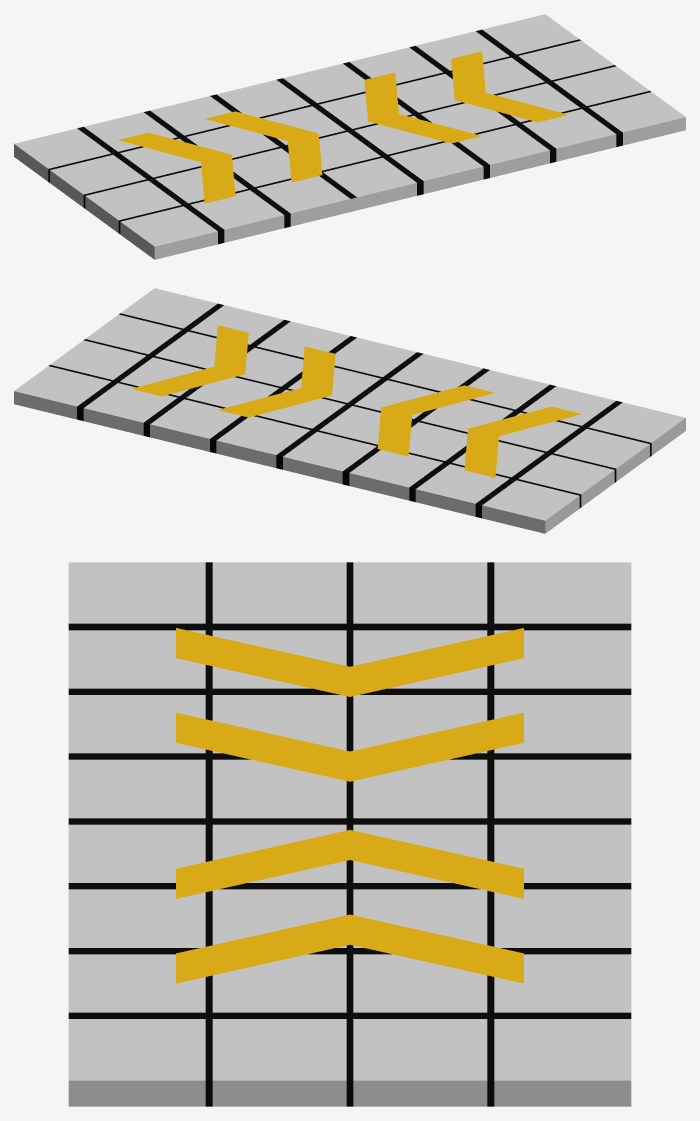
Rendered from speedTile.fbx.
3 views of the same model, one above another, from view 1: azimuth 30°, elevation 25°; view 2: azimuth 150°, elevation 25°; view 3: azimuth 270°, elevation 25° (orthographic). The views are drawn at different scales.
Parts seen in each view (by area): view 1: speedTile; view 2: speedTile; view 3: speedTile.
Boxes of the visible parts, box(x1,y1,x2,y2) form: speedTile: box(14, 14, 685, 259); speedTile: box(14, 288, 685, 533); speedTile: box(68, 562, 631, 1106).
Bounding box in the file's own units: 8508 × 270 × 3904.
